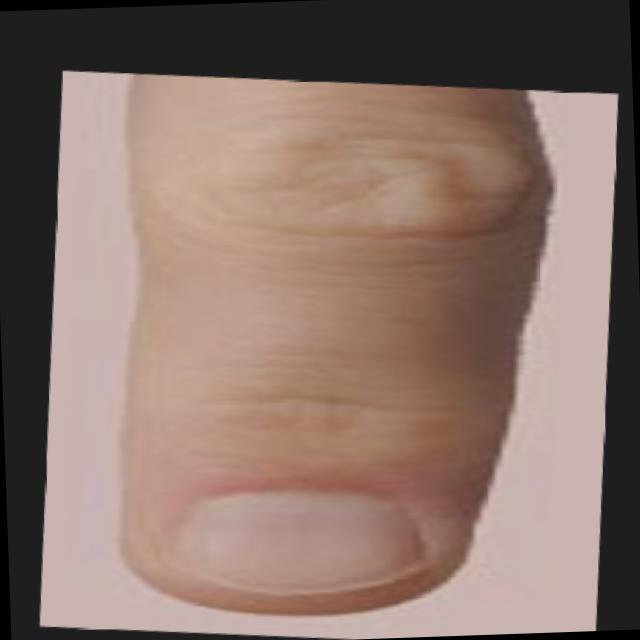Nail: (167, 492, 424, 596)
